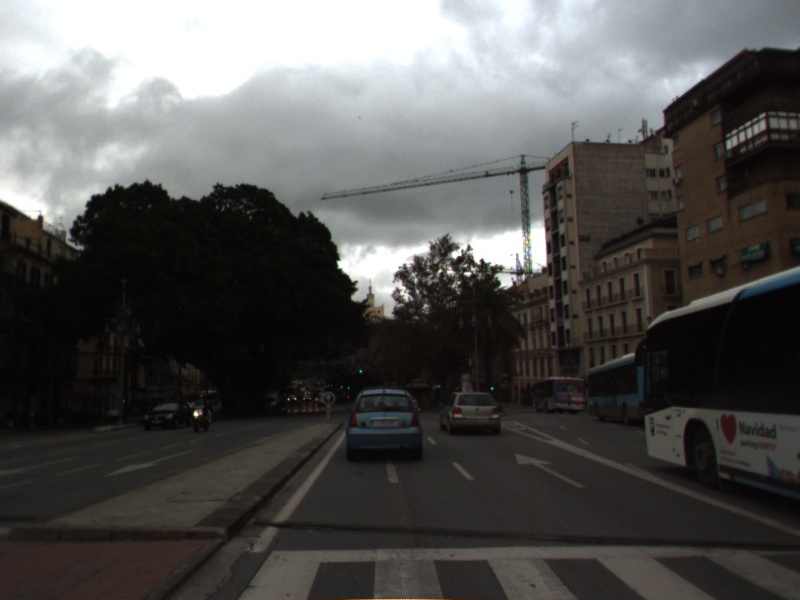STRAIGHT: (513, 450, 588, 491)
